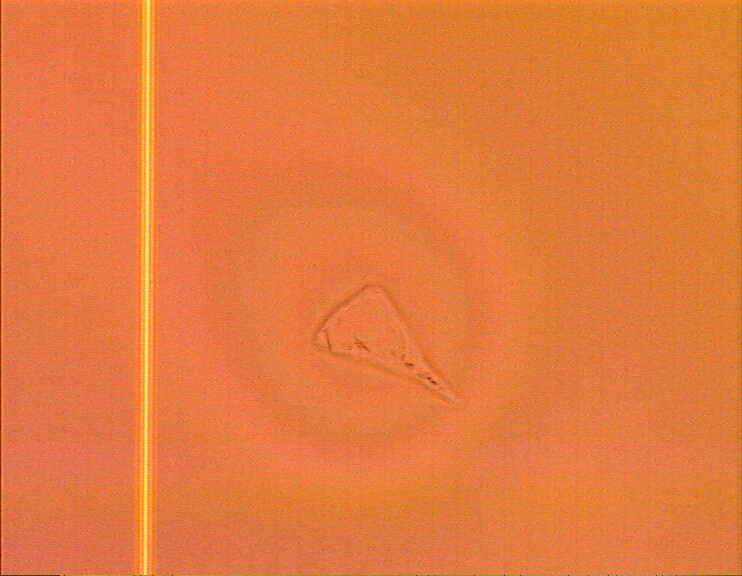PIQ PARTICLE: (310, 276, 466, 413)
